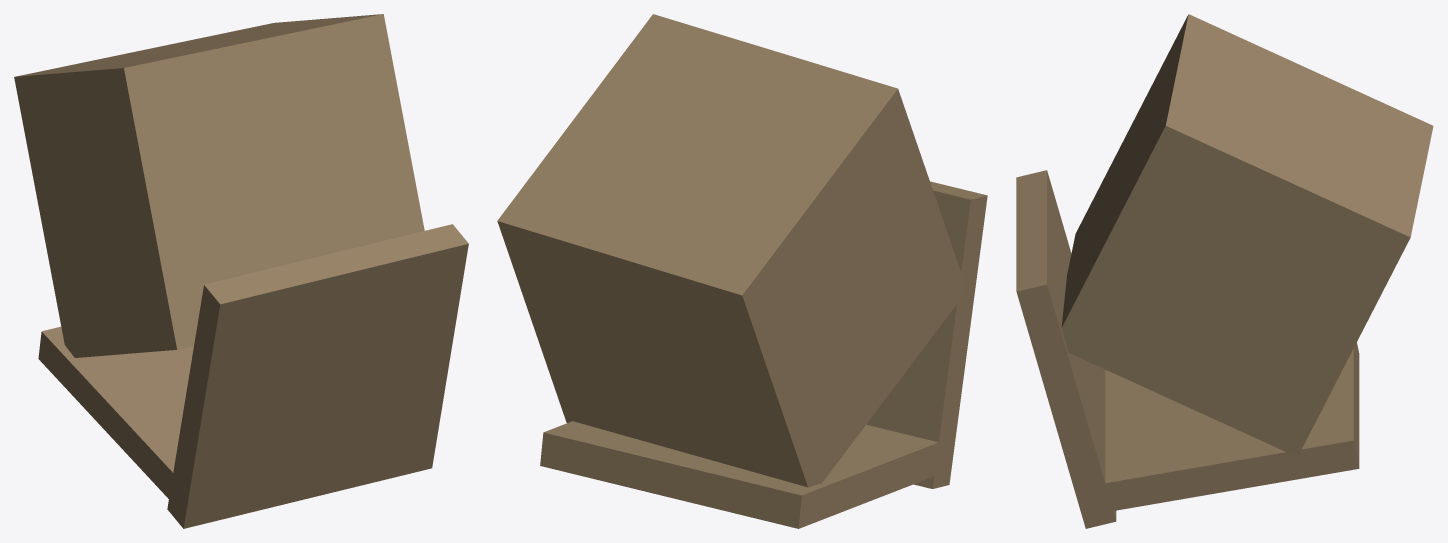
File: House.fbx
3 renders of one model, left to right at view 1: azimuth 30°, elevation 25°; view 2: azimuth 150°, elevation 25°; view 3: azimuth 270°, elevation 25°, orthographic. The views are drawn at different scales.
Parts seen in each view (by area): view 1: House; view 2: House; view 3: House.
Part boxes in pixels (x1,y1,x2,y2): House: (14, 14, 468, 528); House: (497, 14, 987, 528); House: (1016, 14, 1433, 528).
Bounding box in the file's own units: 497 × 735 × 694.
